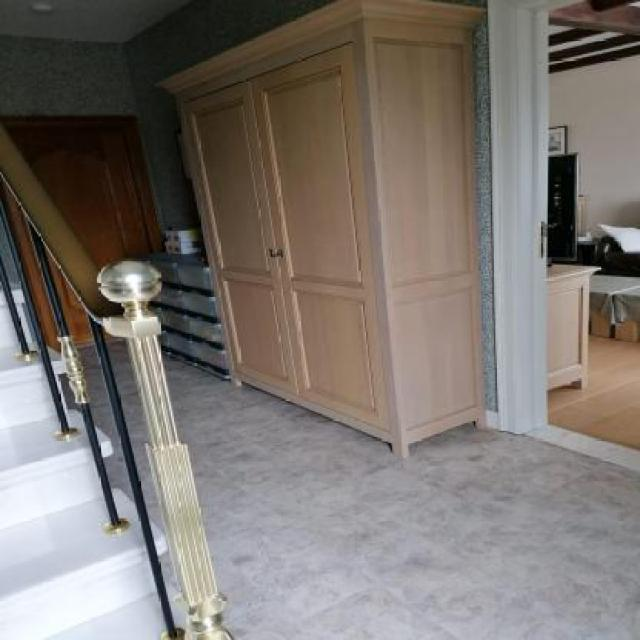Floor: (161, 334, 640, 640), (106, 339, 168, 546), (75, 344, 135, 504), (58, 372, 81, 414), (158, 548, 179, 593)
